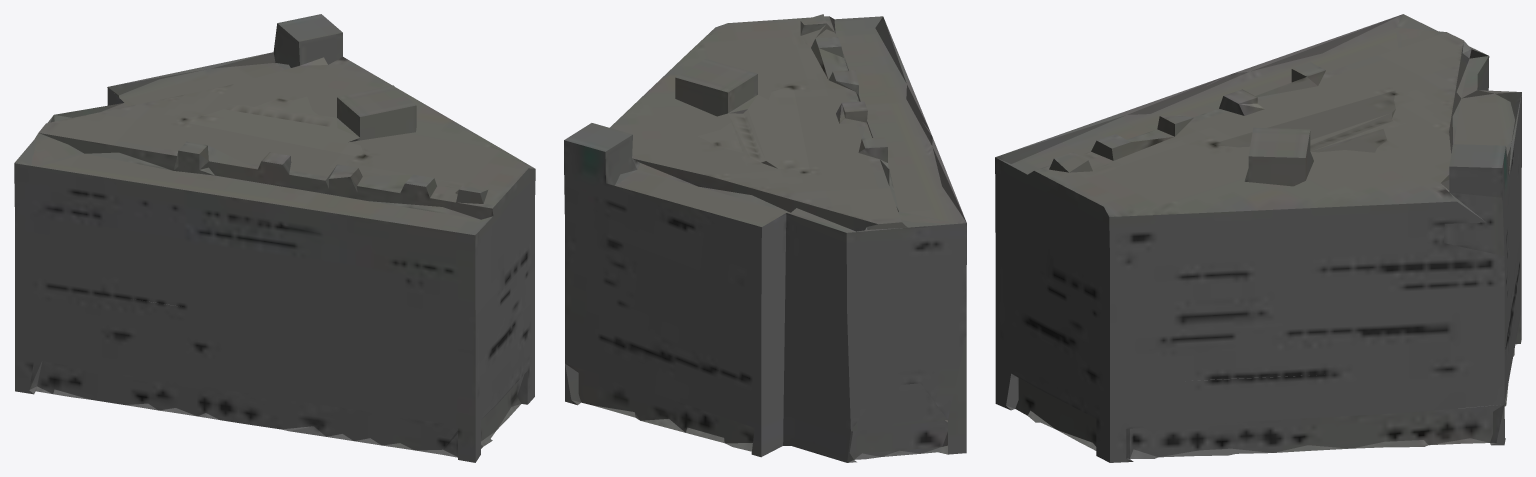
The model's file is t_-3_12.coat.glb.
The picture shows the model from 3 angles, left to right: view 1: azimuth 30°, elevation 25°; view 2: azimuth 150°, elevation 25°; view 3: azimuth 270°, elevation 25°; orthographic projection. The views are drawn at different scales.
Visible parts, largest first — view 1: far; view 2: far; view 3: far.
Part boxes in pixels (x1,y1,x2,y2): far: (14,14,535,462); far: (564,14,966,462); far: (995,14,1521,462).
Size of the model in its own units: 58.7 by 37.5 by 64.37.
1 material, 1 textured.
